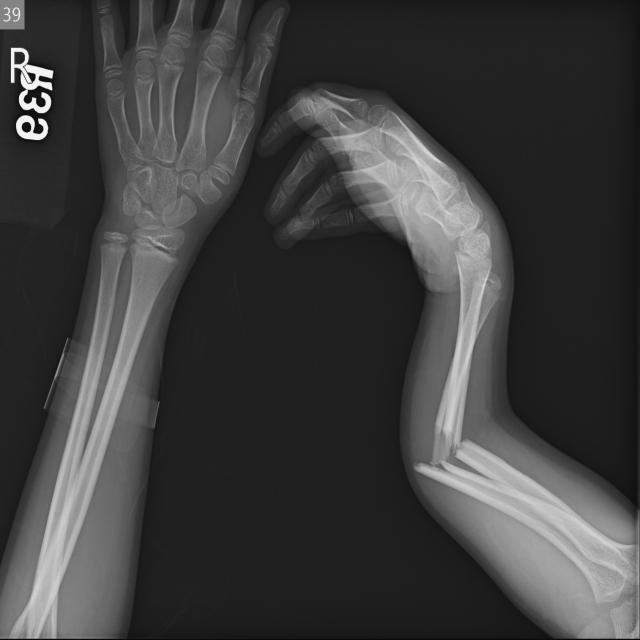bone: (396, 396, 514, 516)
